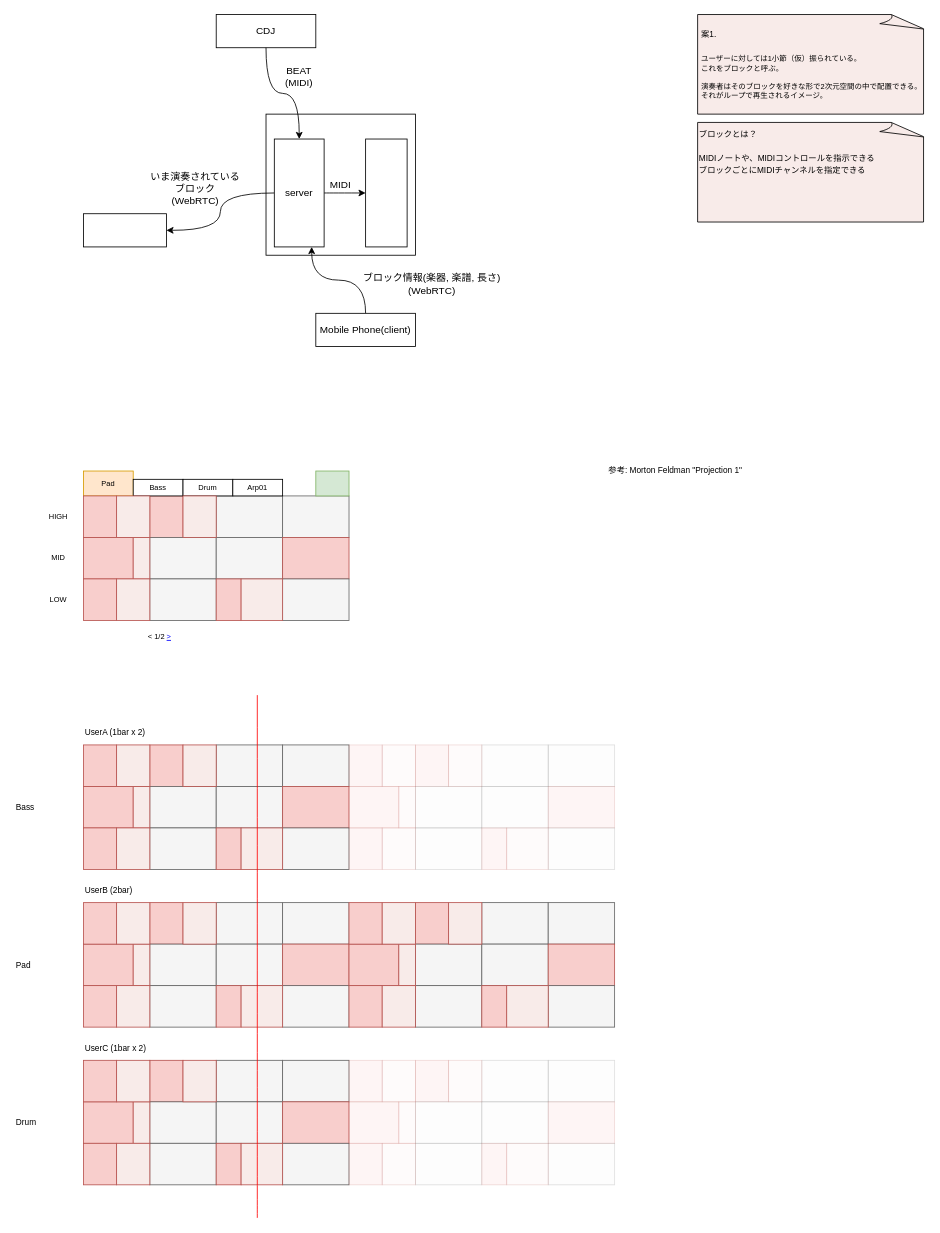
Image size: 940x1233. Some labels were removed from this diagram. Here are the shapes that lost their labels. From the top down, the box of each, then its label:
(265, 113, 415, 255): PC
(365, 138, 407, 247): osc (DAW?)
(83, 213, 166, 247): VJ Client
(315, 470, 349, 496): GO!
